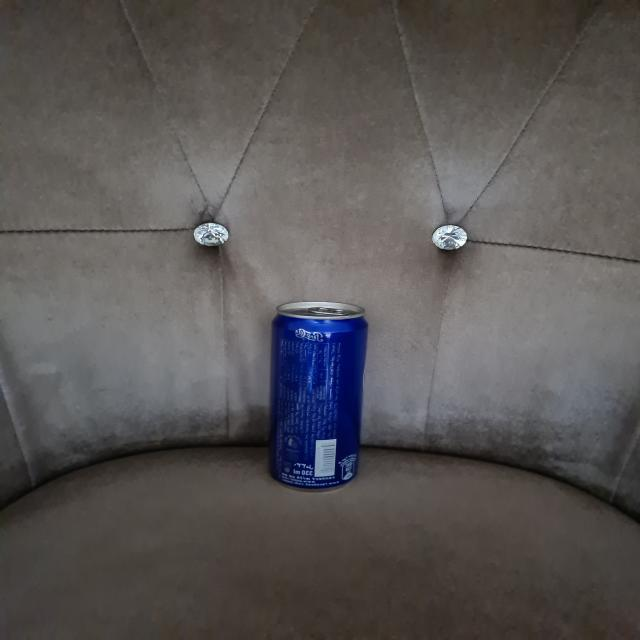can: (259, 298, 377, 490)
